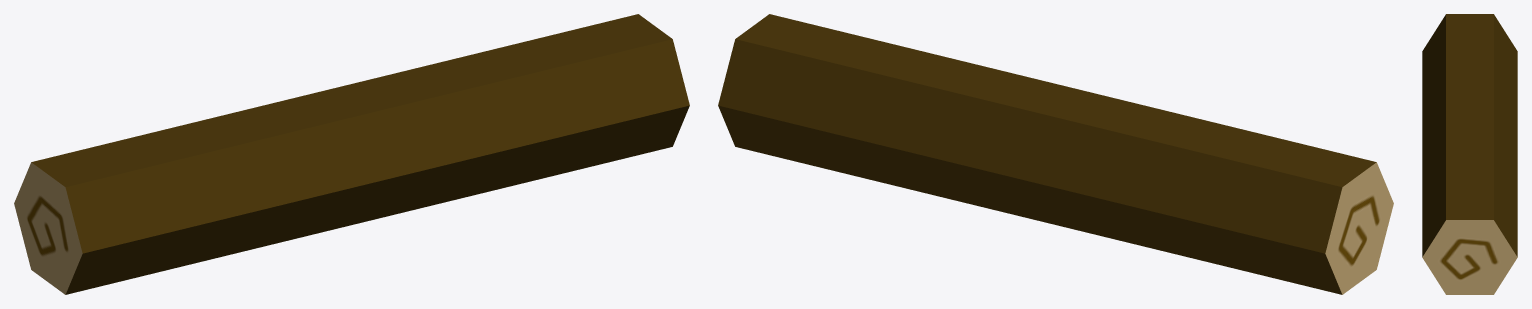
Rendered from Wall_4x1.fbx.
3 renders of one model, left to right at view 1: azimuth 30°, elevation 25°; view 2: azimuth 150°, elevation 25°; view 3: azimuth 270°, elevation 25°, orthographic. The views are drawn at different scales.
Visible parts, largest first — view 1: Wall_4x1; view 2: Wall_4x1; view 3: Wall_4x1.
Part boxes in pixels (x1,y1,x2,y2): Wall_4x1: (14,14,689,294); Wall_4x1: (718,14,1393,294); Wall_4x1: (1422,14,1517,294).
Bounding box in the file's own units: 10.22 × 1.73 × 2.
